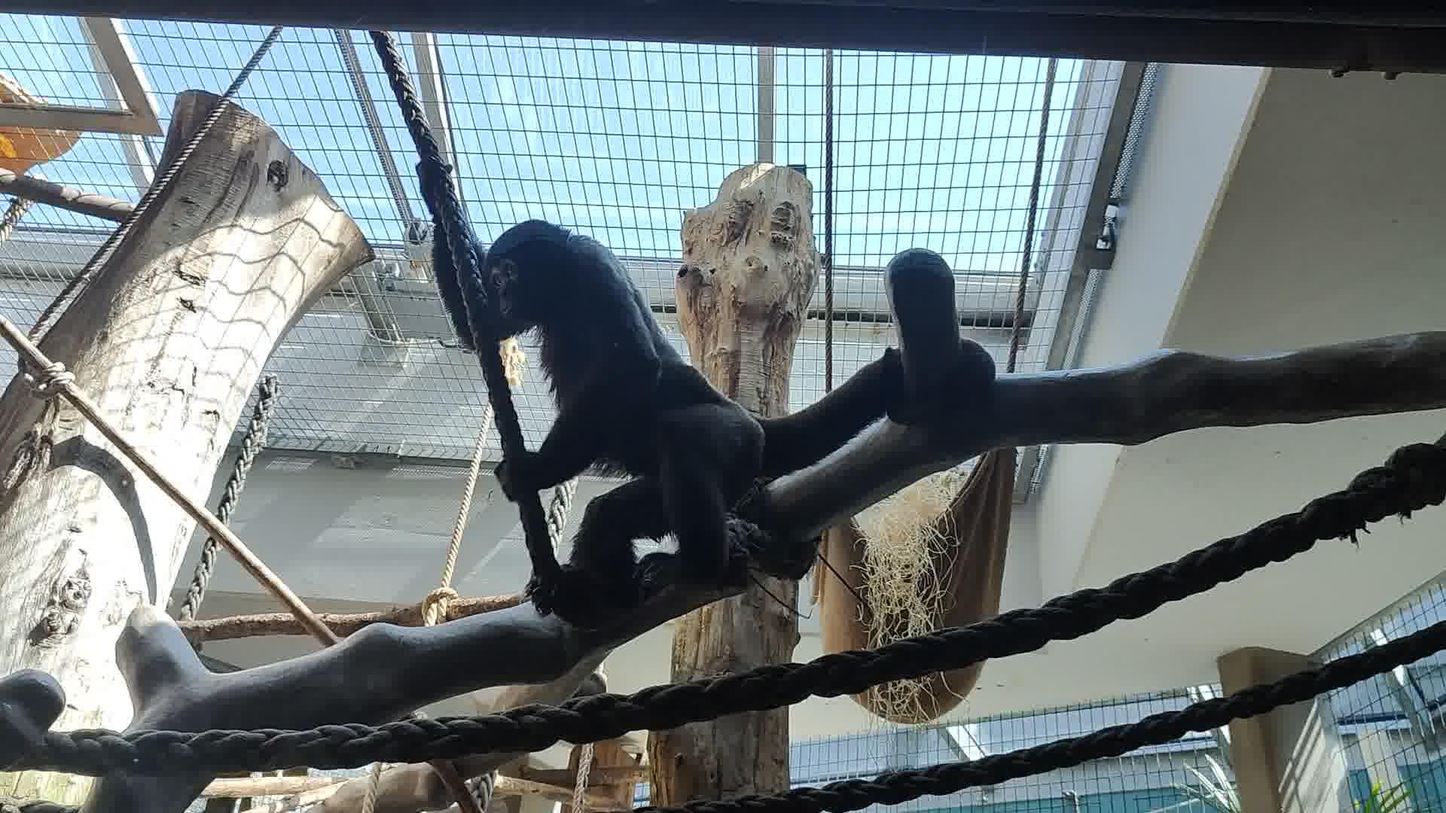boar: (416, 161, 997, 625)
